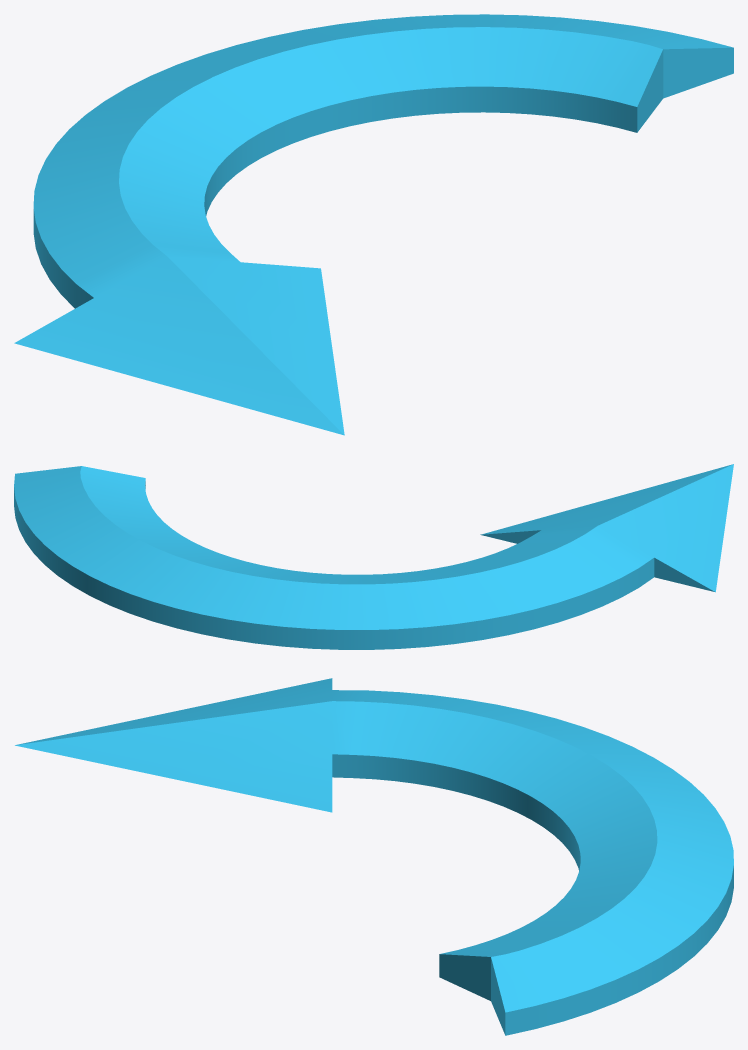
File: Turn.glb
The picture shows the model from 3 angles, top to bottom: view 1: azimuth 30°, elevation 25°; view 2: azimuth 150°, elevation 25°; view 3: azimuth 270°, elevation 25°; orthographic projection. The views are drawn at different scales.
Visible parts, largest first — view 1: Turn; view 2: Turn; view 3: Turn.
Part boxes in pixels (x1,y1,x2,y2): Turn: [14, 14, 733, 435]; Turn: [14, 464, 733, 649]; Turn: [15, 678, 733, 1035].
Bounding box in the file's own units: 5.32 × 0.307 × 4.52.
